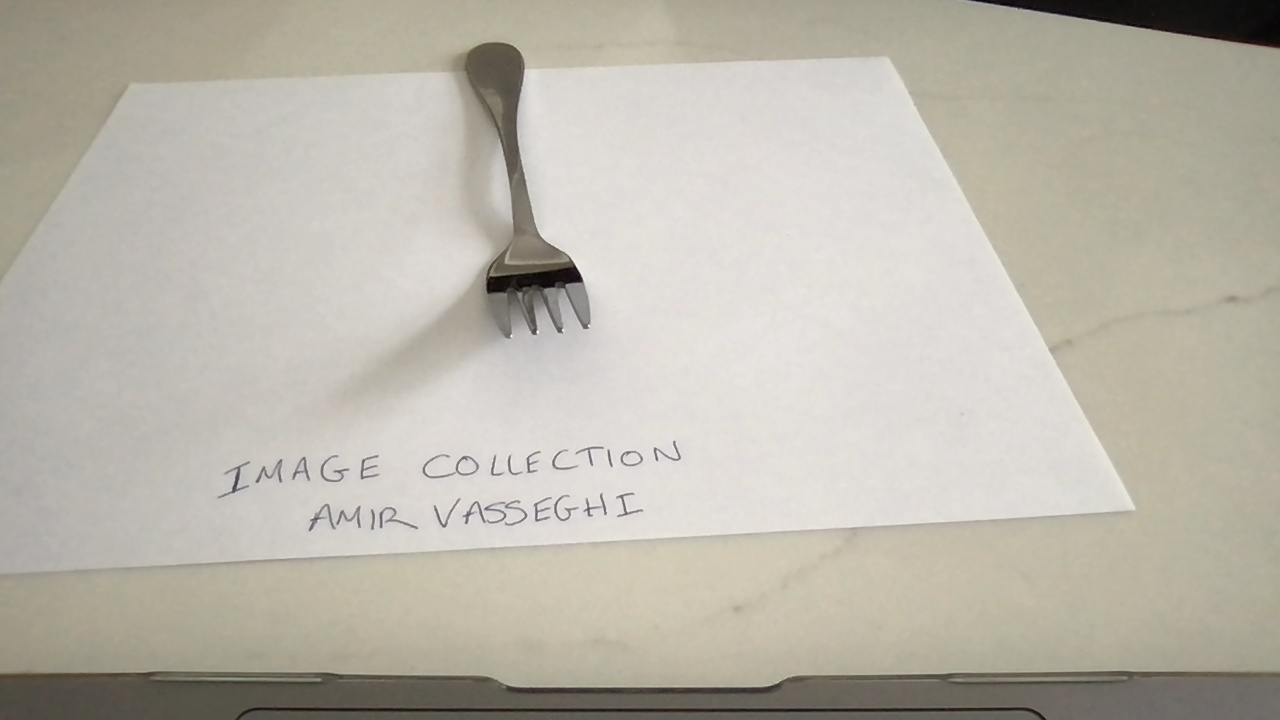fork: (463, 43, 595, 343)
